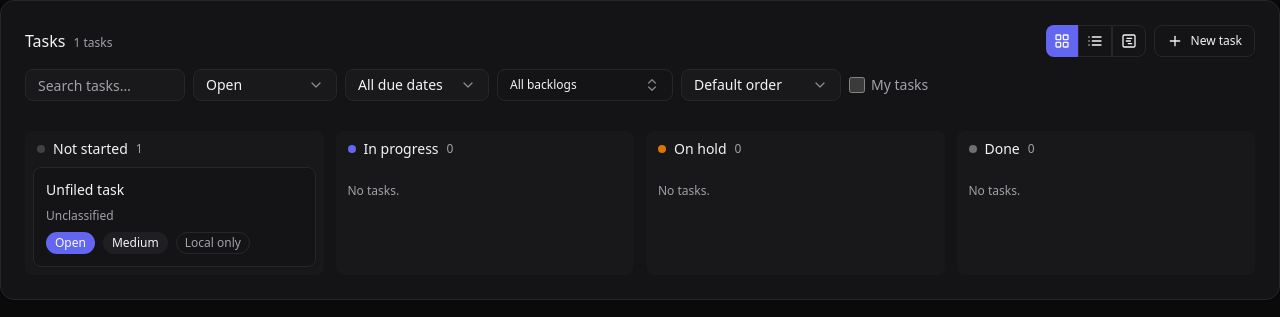
TaskListSection › groups tasks with no backlog under Unclassified
Click the button named "List": [1095, 41] box [1078, 25, 1112, 57]
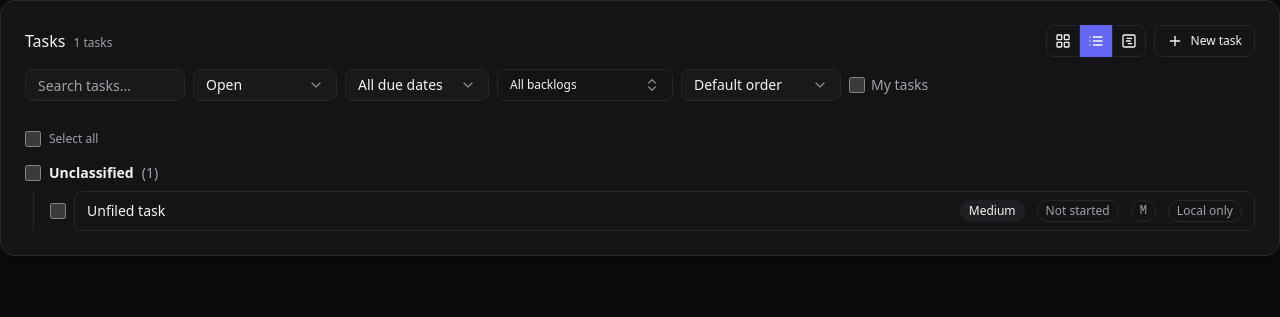
Expected: the text "Unfiled task" is shown, [87, 201, 165, 221]
Now the heading "Unclassified (1)" is shown, box [25, 163, 158, 182]
